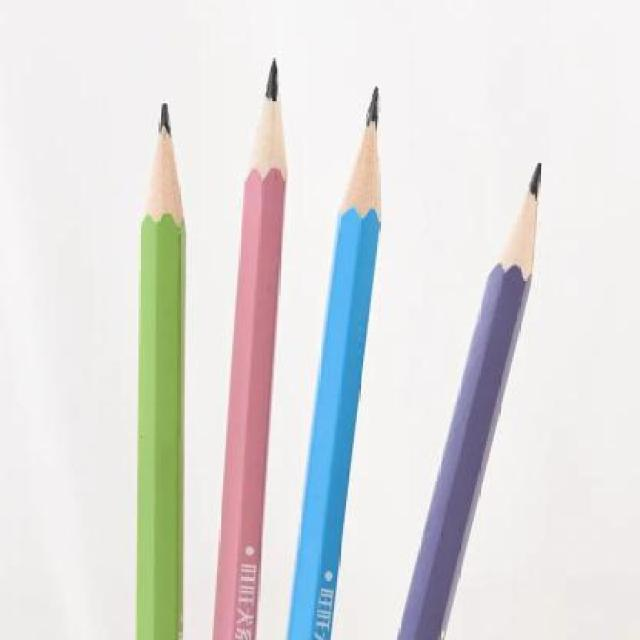pencil: (388, 158, 558, 640), (280, 75, 393, 640), (207, 44, 298, 640), (131, 95, 196, 638)
